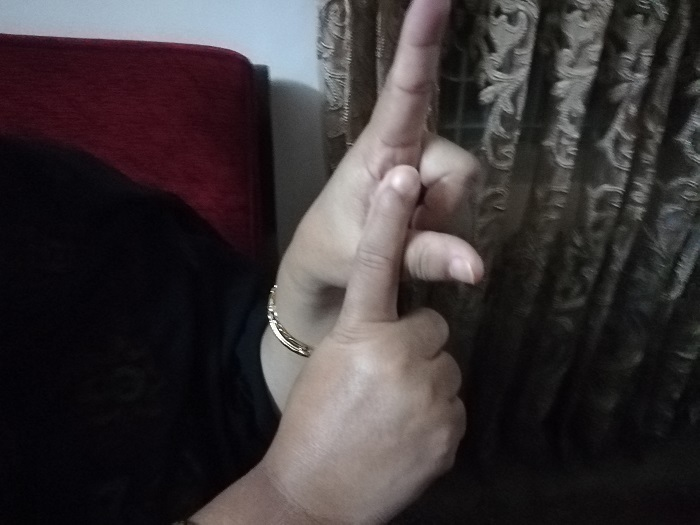dh: (296, 1, 484, 463)
